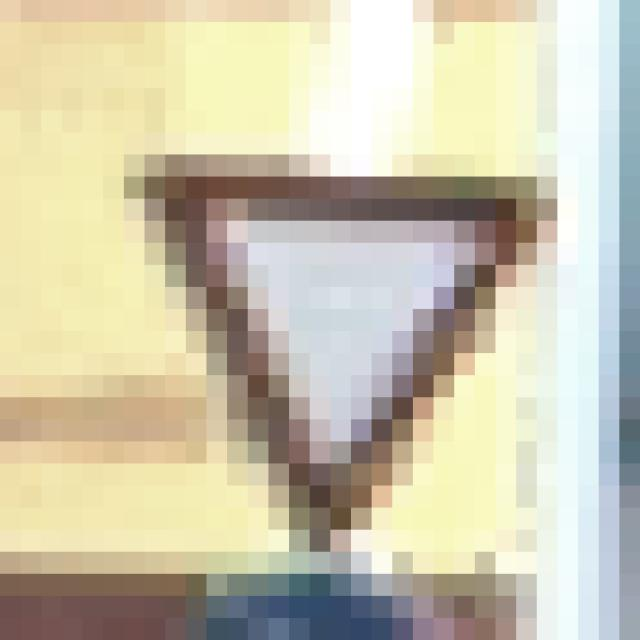Give Way: (125, 134, 538, 531)
